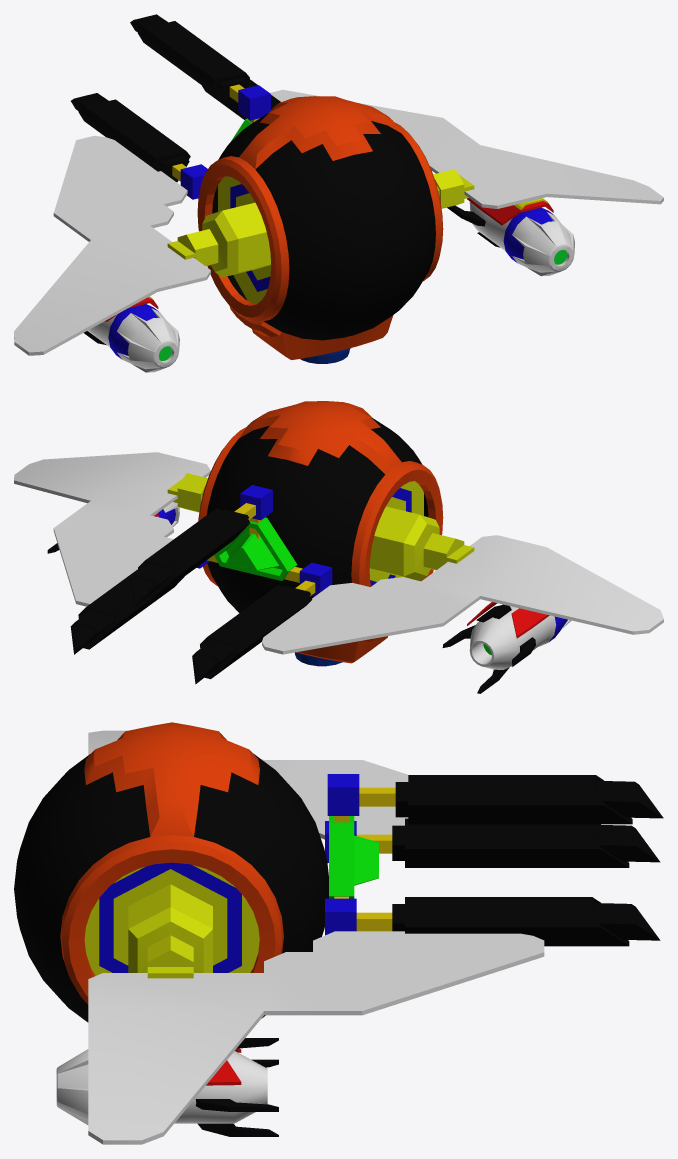
Rendered from drone1b_atlas.FBX.
3 views of the same model, one above another, from view 1: azimuth 30°, elevation 25°; view 2: azimuth 150°, elevation 25°; view 3: azimuth 270°, elevation 25° (orthographic). The views are drawn at different scales.
Visible parts, largest first — view 1: Sphere005; view 2: Sphere005; view 3: Sphere005.
Part boxes in pixels (bbox=[...]): Sphere005: bbox=[14, 14, 663, 372]; Sphere005: bbox=[14, 401, 663, 693]; Sphere005: bbox=[14, 722, 663, 1144].
Bounding box in the file's own units: 197 × 72.99 × 132.
